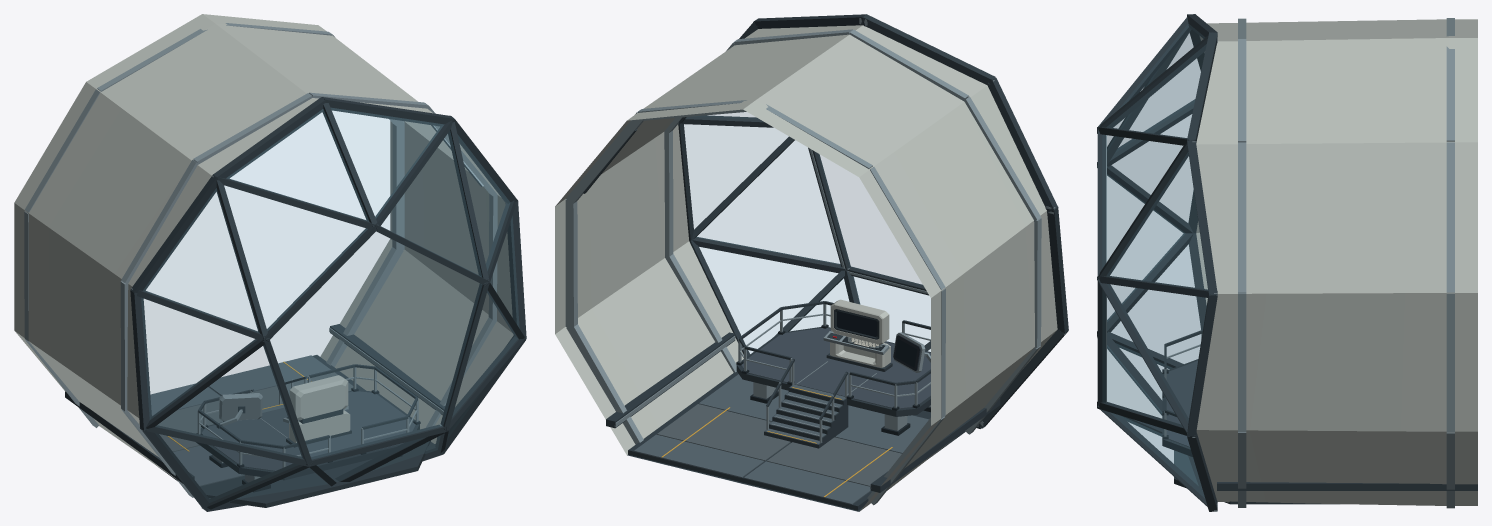
File: Головна кімната — White Cat.glb
The picture shows the model from 3 angles, left to right: view 1: azimuth 30°, elevation 25°; view 2: azimuth 150°, elevation 25°; view 3: azimuth 270°, elevation 25°; orthographic projection. The views are drawn at different scales.
Parts seen in each view (by area): view 1: Pressure shell | Original profile, Window | Center pentagon, Window | triangular pane 14, Window | triangular pane 06, Window | triangular pane 15, Window | triangular pane 01, Window | triangular pane 05, Window | triangular pane 12, Window | triangular pane 13, Bridge | nonslip upper deck, Deck | structural pan, Window | triangular pane 07 (+53 smaller); view 2: Pressure shell | Original profile, Window | triangular pane 10, Bridge | nonslip upper deck, Window | triangular pane 03, Window | triangular pane 11, Window | Center pentagon, Deck | walkable floor cassette.003, Deck | walkable floor cassette.002, Window | triangular pane 08, Deck | walkable floor cassette.005, Deck | walkable floor cassette.004, Deck | walkable floor cassette (+38 smaller); view 3: Pressure shell | Original profile, Window | triangular pane 02, Window | triangular pane 11, Window | triangular pane 12, Window | triangular pane 10, Window | triangular pane 07, Window | triangular pane 06, Window | triangular pane 13, Window | triangular pane 05, Window | triangular pane 15, Window | triangular pane 03, Cabin | side cable trunk.001 (+35 smaller).
Boxes of the visible parts, left/top/right/bottom form: Pressure shell | Original profile: left=14, top=14, right=513, bottom=498; Window | Center pentagon: left=270, top=232, right=481, bottom=458; Window | triangular pane 14: left=224, top=186, right=367, bottom=330; Window | triangular pane 06: left=156, top=345, right=303, bottom=458; Window | triangular pane 15: left=143, top=188, right=259, bottom=332; Window | triangular pane 01: left=227, top=109, right=368, bottom=220; Window | triangular pane 05: left=141, top=298, right=256, bottom=419; Window | triangular pane 12: left=381, top=131, right=481, bottom=276; Window | triangular pane 13: left=331, top=108, right=443, bottom=217; Bridge | nonslip upper deck: left=201, top=391, right=415, bottom=471; Deck | structural pan: left=158, top=355, right=430, bottom=507; Window | triangular pane 07: left=155, top=433, right=297, bottom=502; Pressure shell | Original profile: left=555, top=25, right=1057, bottom=511; Window | triangular pane 10: left=696, top=140, right=840, bottom=264; Bridge | nonslip upper deck: left=741, top=328, right=930, bottom=408; Window | triangular pane 03: left=699, top=247, right=837, bottom=353; Window | triangular pane 11: left=684, top=124, right=788, bottom=228; Window | Center pentagon: left=818, top=154, right=922, bottom=285; Deck | walkable floor cassette.003: left=657, top=404, right=790, bottom=460; Deck | walkable floor cassette.002: left=767, top=437, right=901, bottom=486; Window | triangular pane 08: left=853, top=277, right=930, bottom=344; Deck | walkable floor cassette.005: left=634, top=434, right=764, bottom=477; Deck | walkable floor cassette.004: left=744, top=461, right=870, bottom=504; Deck | walkable floor cassette: left=835, top=405, right=928, bottom=453; Pressure shell | Original profile: left=1196, top=19, right=1477, bottom=505; Window | triangular pane 02: left=1107, top=152, right=1207, bottom=290; Window | triangular pane 11: left=1107, top=284, right=1207, bottom=422; Window | triangular pane 12: left=1102, top=135, right=1182, bottom=267; Window | triangular pane 10: left=1102, top=290, right=1182, bottom=426; Window | triangular pane 07: left=1111, top=245, right=1200, bottom=363; Window | triangular pane 06: left=1107, top=175, right=1184, bottom=321; Window | triangular pane 13: left=1107, top=45, right=1205, bottom=137; Window | triangular pane 05: left=1112, top=115, right=1193, bottom=222; Window | triangular pane 15: left=1116, top=34, right=1200, bottom=151; Window | triangular pane 03: left=1111, top=413, right=1204, bottom=497; Cabin | side cable trunk.001: left=1217, top=482, right=1477, bottom=490.
Size of the model in its own units: 16.25 by 15.48 by 12.81.
